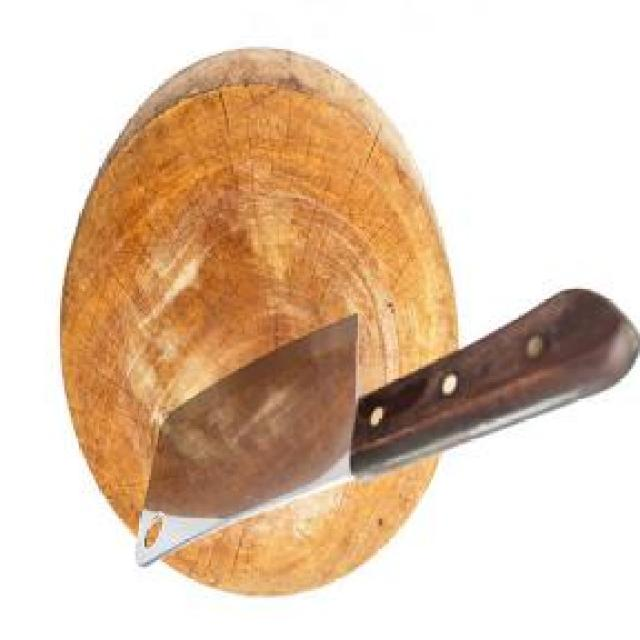knife: (136, 242, 640, 567)
